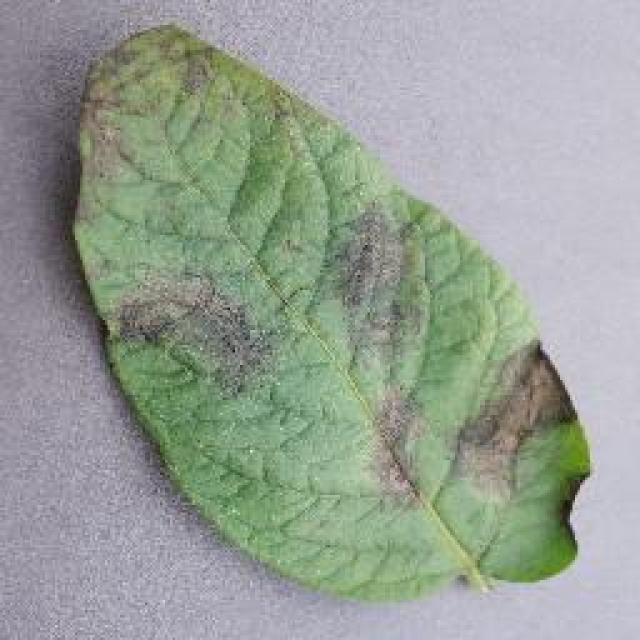late_blight: (65, 17, 595, 605)
